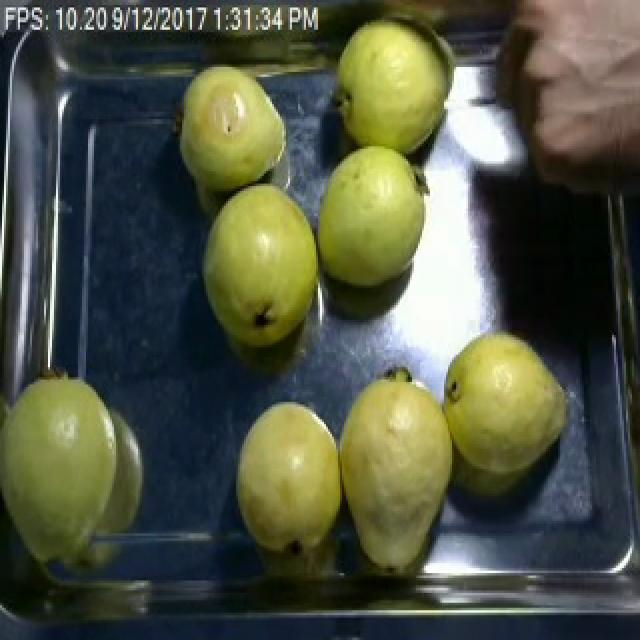Fruit: (0, 360, 144, 595), (478, 0, 640, 179), (336, 355, 464, 578), (190, 171, 326, 360), (440, 320, 578, 494), (332, 7, 460, 166), (318, 134, 438, 303), (228, 392, 342, 563), (170, 59, 298, 201)
